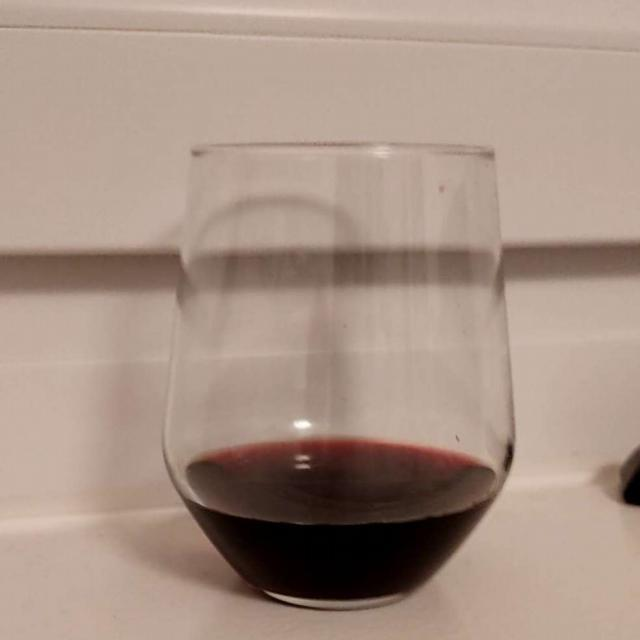wine: (167, 426, 508, 600)
